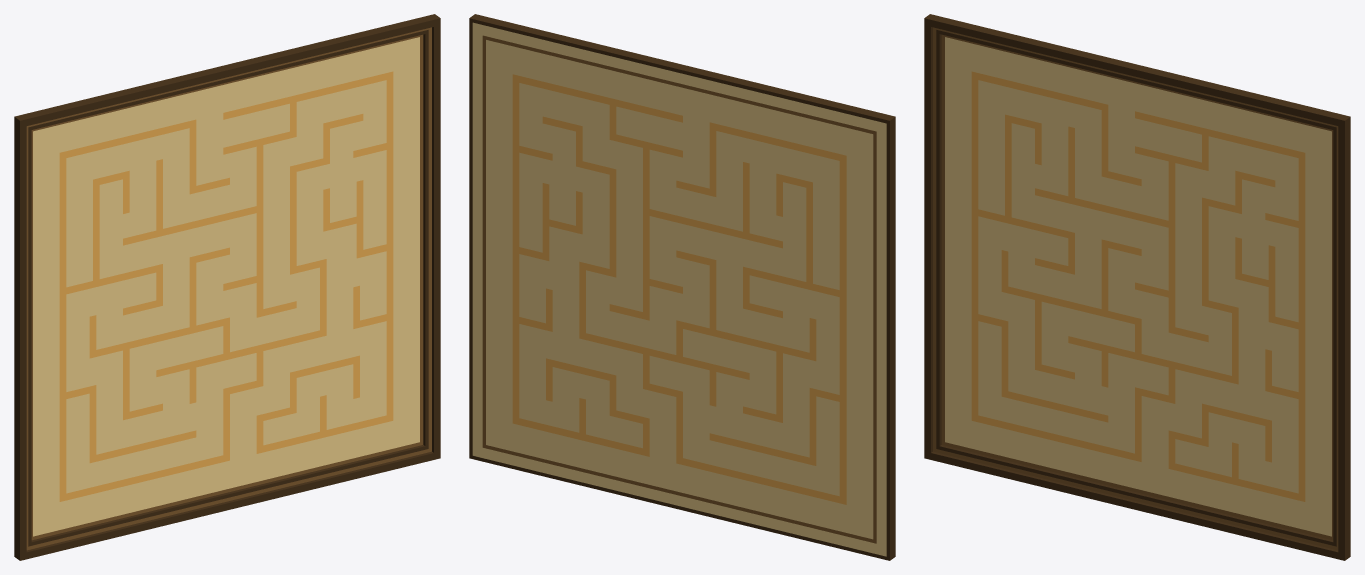
File: MazeMap.obj
3 renders of one model, left to right at view 1: azimuth 30°, elevation 25°; view 2: azimuth 150°, elevation 25°; view 3: azimuth 330°, elevation 25°, orthographic.
Visible parts, largest first — view 1: MazeMap; view 2: MazeMap; view 3: MazeMap.
Boxes of the visible parts, <box> form: MazeMap: <box>14,14,440,560</box>; MazeMap: <box>469,14,895,560</box>; MazeMap: <box>924,14,1350,560</box>.
Bounding box in the file's own units: 126 × 126 × 3.
1 material, 1 textured.
